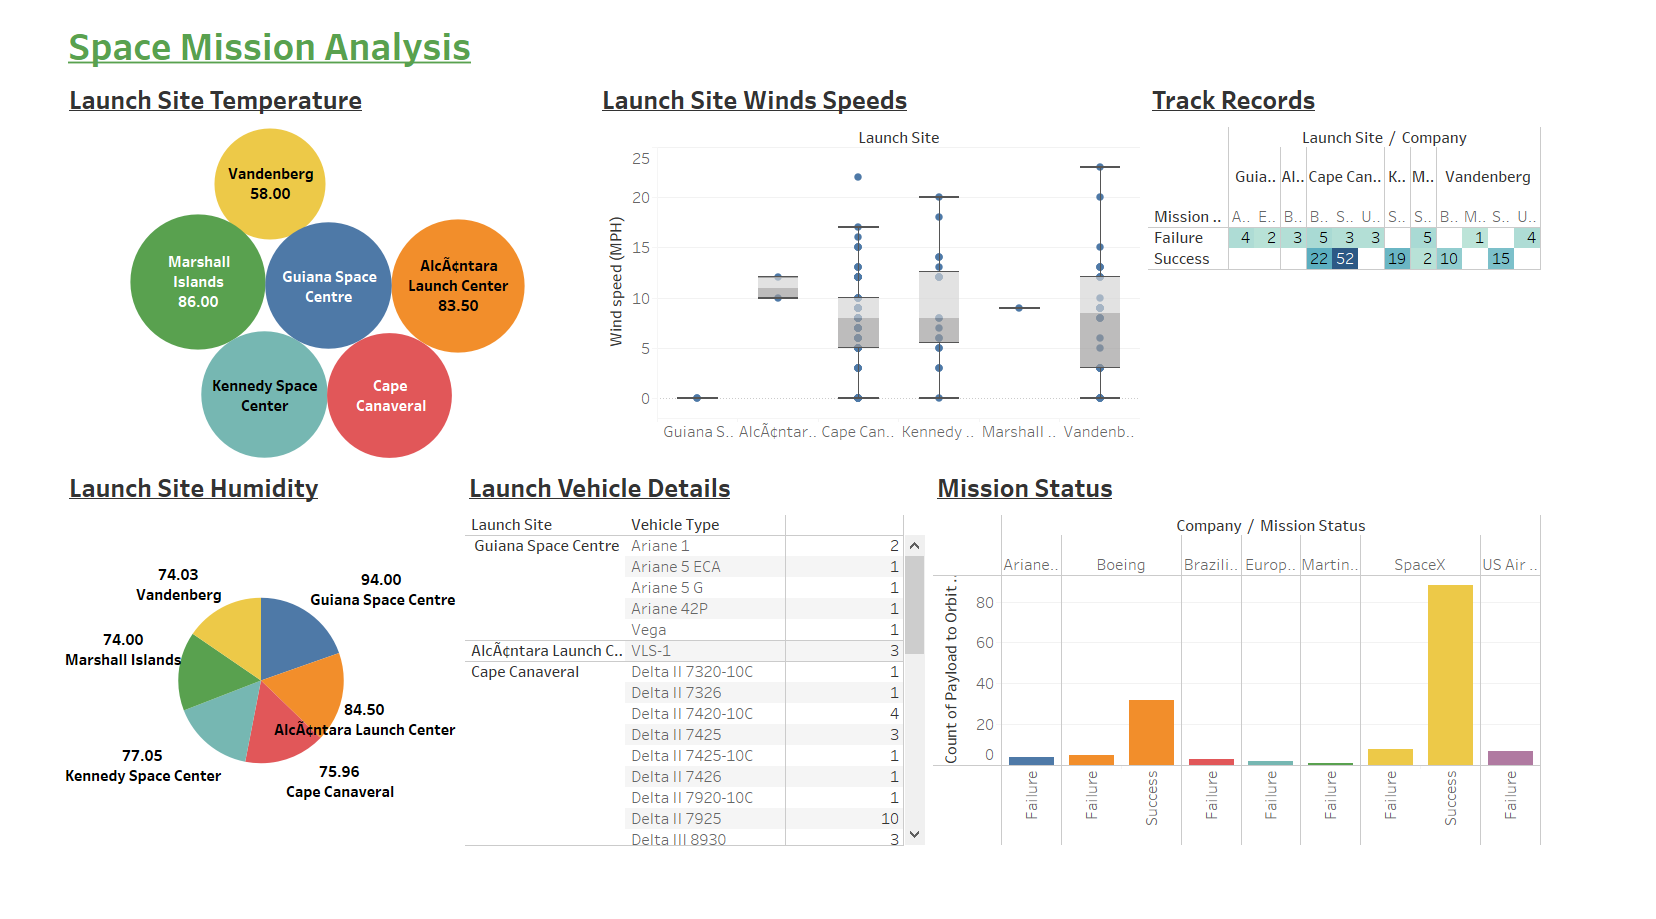

This screenshot's page, from the dashboard's own definition file:
{"tool":"tableau","page":{"name":"Dashboard 1","canvas":[1500,850],"ordinal":0},"visuals":[{"type":"title","box":[8,8,1484,58]},{"type":"worksheet","title":"Launch Site Temperature","mark":"Circle","box":[8,66,533,388]},{"type":"worksheet","title":"Launch Site Winds Speeds","mark":"Circle","rows":["Wind speed (MPH)"],"cols":["Launch Site"],"box":[541,66,550,388]},{"type":"worksheet","title":"Track Records","mark":"Square","rows":["Mission Status"],"cols":["Launch Site","Company"],"box":[1091,66,401,388]},{"type":"worksheet","title":"Launch Site Humidity","mark":"Pie","box":[8,454,400,388]},{"type":"worksheet","title":"Launch Vehicle Details","mark":"Automatic","rows":["Launch Site","Vehicle Type"],"box":[408,454,468,388]},{"type":"worksheet","title":"Mission Status","mark":"Automatic","rows":["Payload to Orbit (kg)"],"cols":["Company","Mission Status"],"box":[876,454,616,388]}]}

Visuals, with their boxes in screenshot pixels (x1, y1, x2, y2), scaled from the page's 1500x850 canvas onto the 1656x919 screenshot:
title: locate(9, 9, 1647, 71)
"Launch Site Temperature" worksheet (Circle marks): locate(9, 71, 597, 491)
"Launch Site Winds Speeds" worksheet (Circle marks): locate(597, 71, 1204, 491)
"Track Records" worksheet (Square marks): locate(1204, 71, 1647, 491)
"Launch Site Humidity" worksheet (Pie marks): locate(9, 491, 450, 910)
"Launch Vehicle Details" worksheet: locate(450, 491, 967, 910)
"Mission Status" worksheet: locate(967, 491, 1647, 910)
